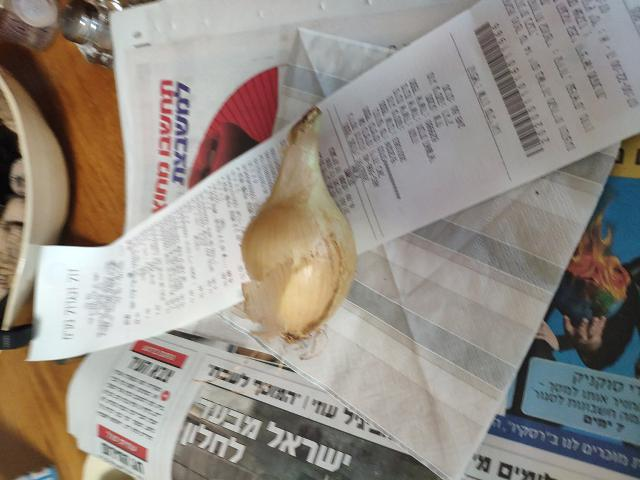onion: (238, 169, 361, 326)
